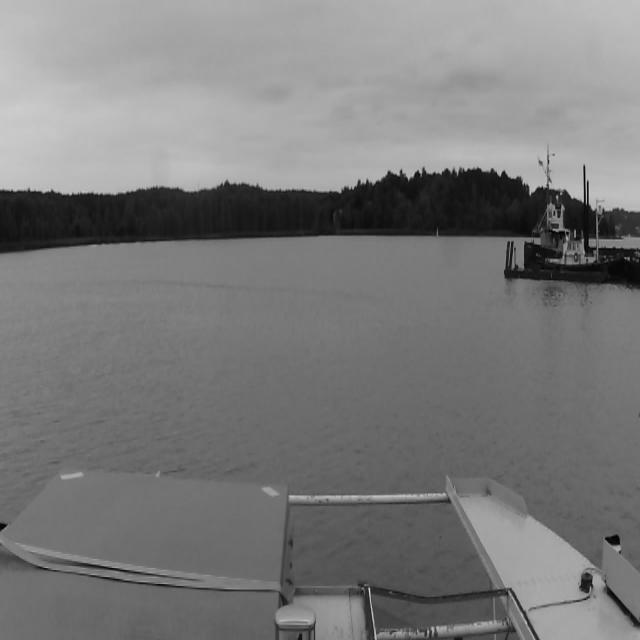buoy: (436, 227, 438, 238)
ship: (523, 138, 573, 276), (548, 240, 626, 284)
